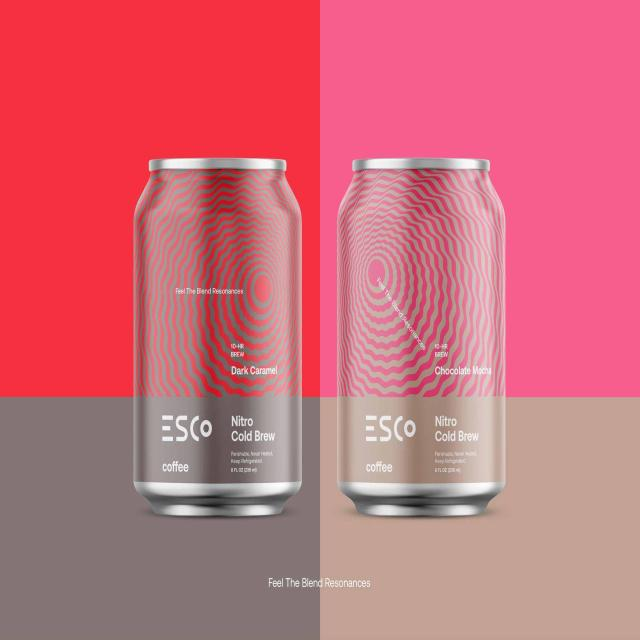can: (130, 163, 302, 523), (338, 156, 508, 516)
